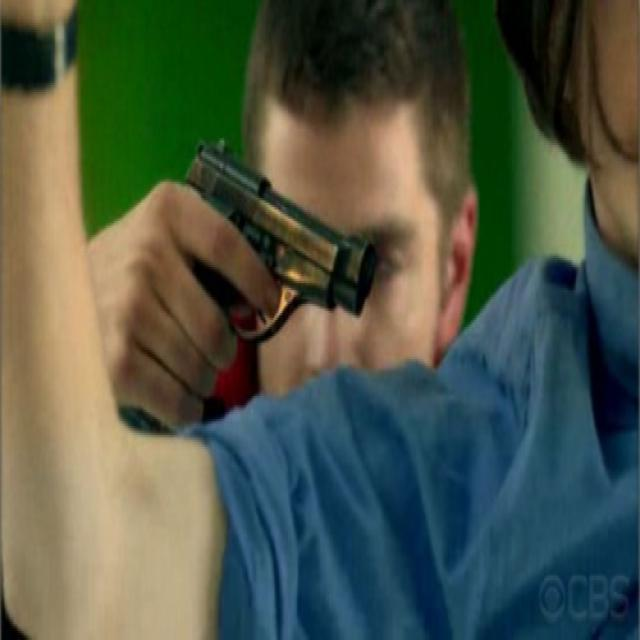weapons: (142, 120, 385, 362)
